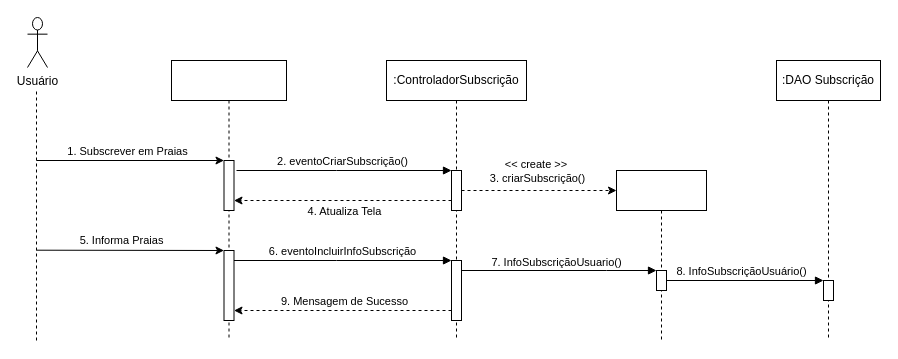
Image size: 898x359. Some labels were removed from this diagram. Each missing label, with the centre of its shape:
":Subscrição" goes at [661,255].
":TelaSubscrição" goes at [228,200].
